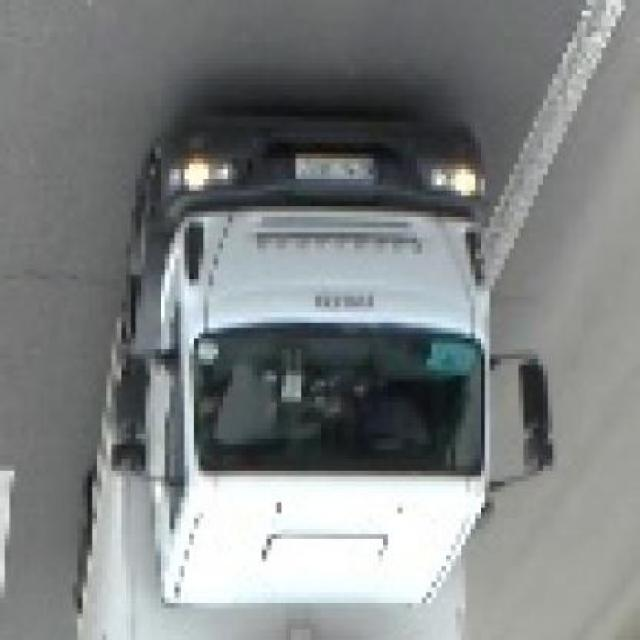truck: (69, 101, 553, 640)
